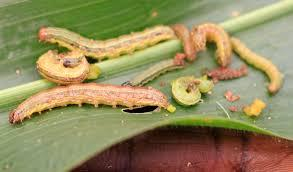fallarmy_worm: (2, 84, 177, 124), (35, 22, 180, 53), (32, 50, 92, 83), (189, 24, 235, 67), (173, 76, 213, 106)
